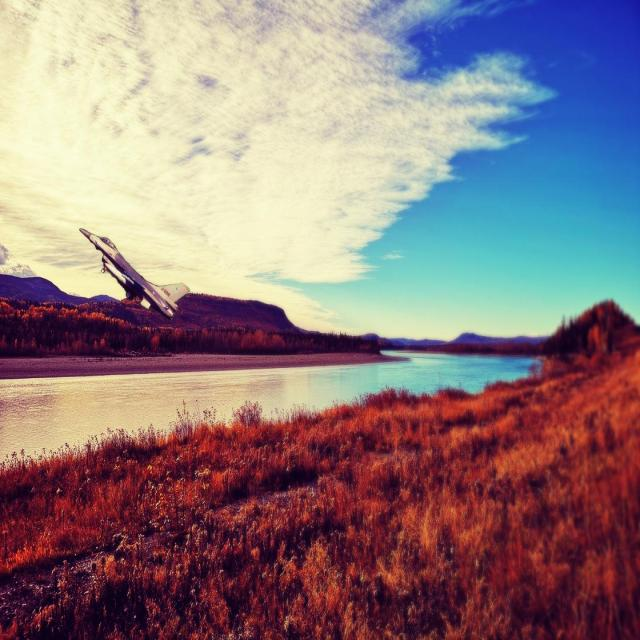airplane: (78, 226, 191, 322)
